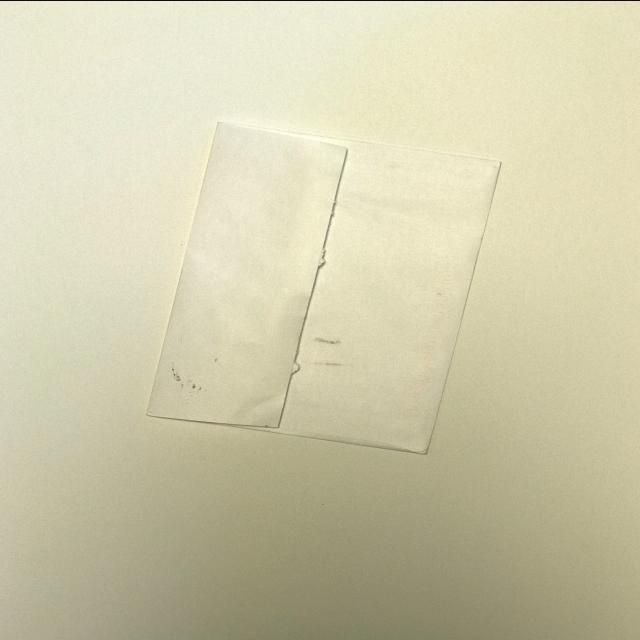Paper: (140, 114, 514, 458)
